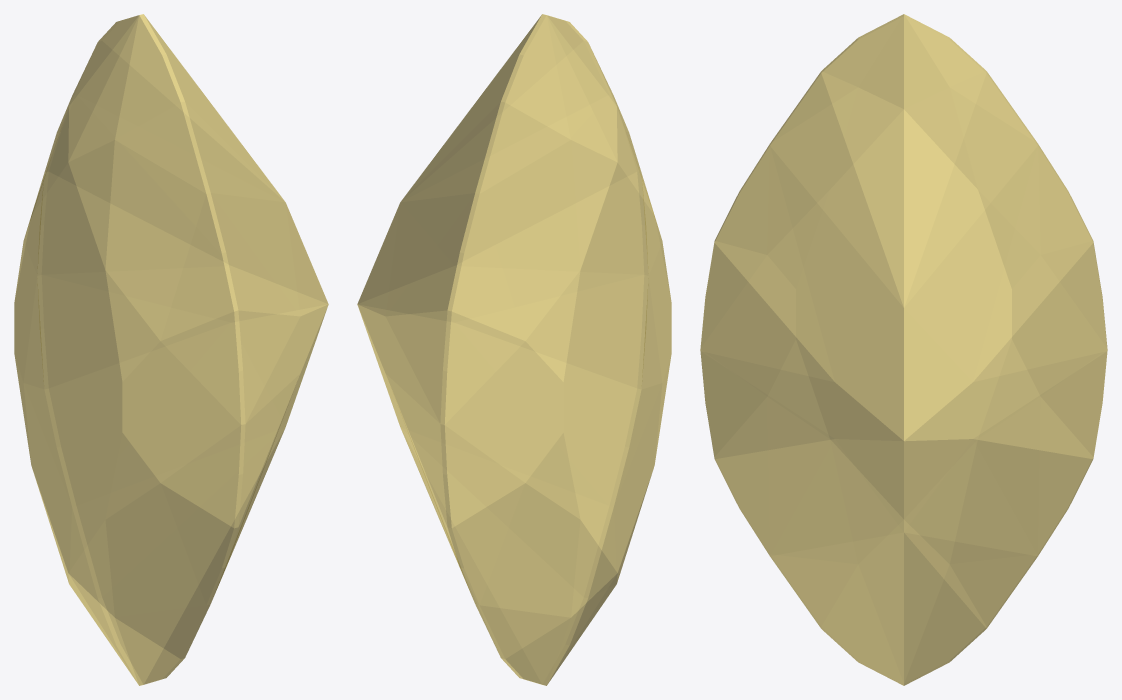
File: marquise saphire jaune.glb
3 renders of one model, left to right at view 1: azimuth 30°, elevation 25°; view 2: azimuth 150°, elevation 25°; view 3: azimuth 270°, elevation 25°, orthographic.
Parts seen in each view (by area): view 1: Marquise; view 2: Marquise; view 3: Marquise.
Boxes of the visible parts, box(x1,y1,x2,y2) form: Marquise: box(14, 14, 328, 685); Marquise: box(357, 14, 671, 685); Marquise: box(700, 14, 1107, 685).
Size of the model in its own units: 0.8446 by 2.08 by 1.15.
